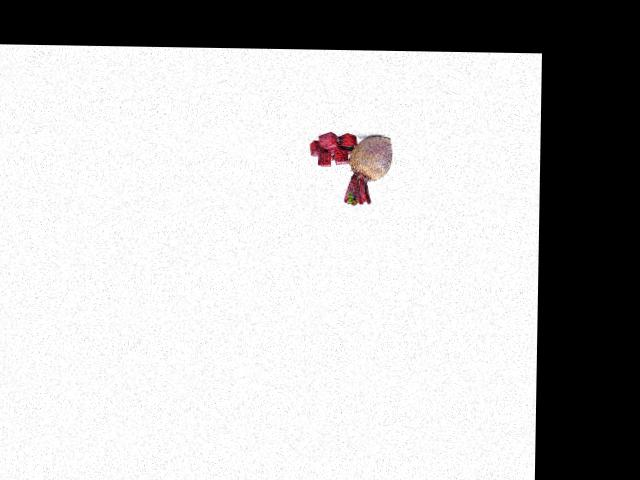beet: (343, 134, 392, 205)
